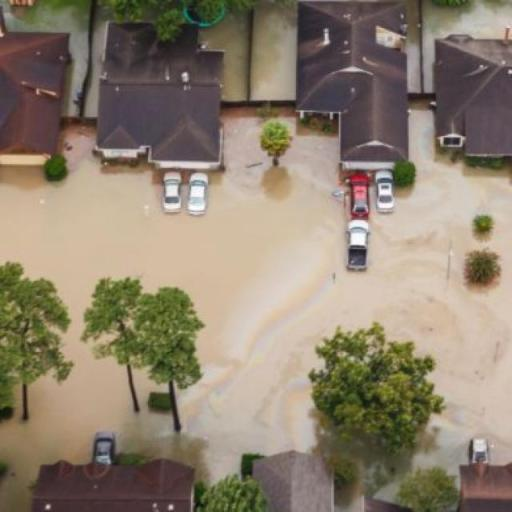flood: (0, 102, 512, 510), (0, 0, 90, 116), (424, 0, 512, 92), (250, 1, 298, 100), (198, 10, 249, 102), (83, 6, 107, 117), (406, 0, 421, 92)
house: (93, 10, 232, 176), (300, 4, 411, 172), (429, 31, 512, 169), (0, 24, 67, 184), (43, 453, 200, 512), (253, 450, 337, 511), (459, 461, 510, 512)
